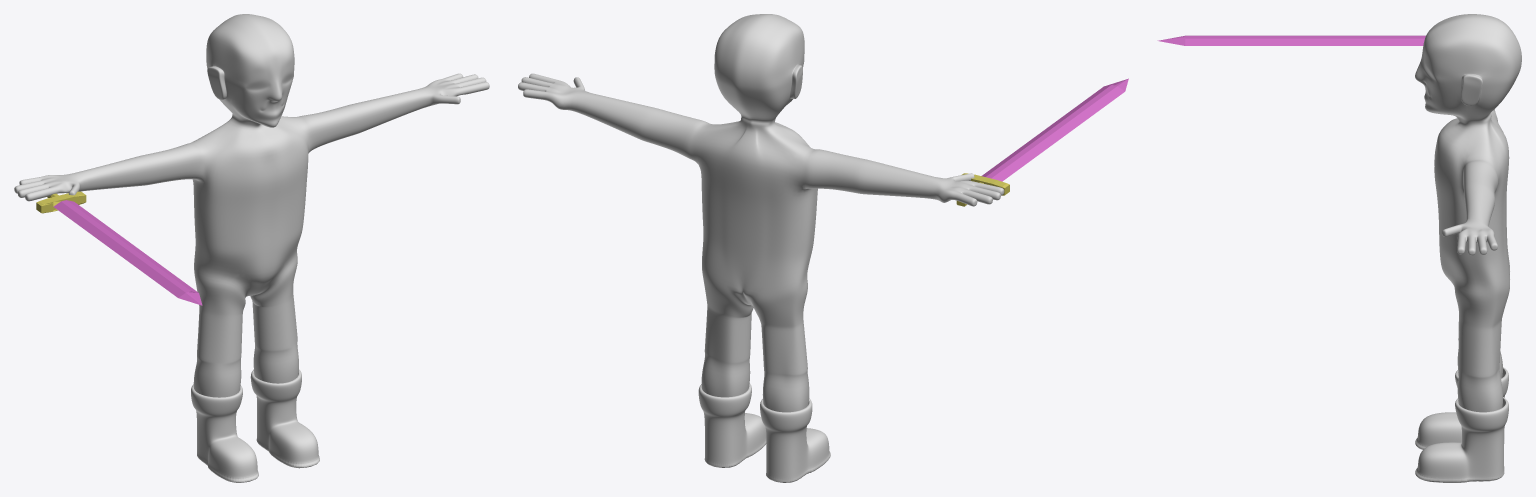
Rendered from PlayerCharacterWithSword.fbx.
3 renders of one model, left to right at view 1: azimuth 30°, elevation 25°; view 2: azimuth 150°, elevation 25°; view 3: azimuth 270°, elevation 25°, orthographic. The views are drawn at different scales.
Parts seen in each view (by area): view 1: Plane, Cube; view 2: Plane, Cube; view 3: Plane, Cube.
Part boxes in pixels (bbox=[...]): Plane: bbox=[14, 14, 489, 482]; Cube: bbox=[36, 191, 202, 305]; Plane: bbox=[518, 14, 1004, 482]; Cube: bbox=[956, 78, 1128, 206]; Plane: bbox=[1415, 14, 1521, 482]; Cube: bbox=[1157, 35, 1425, 45].
Bounding box in the file's own units: 1032 × 924 × 689.
